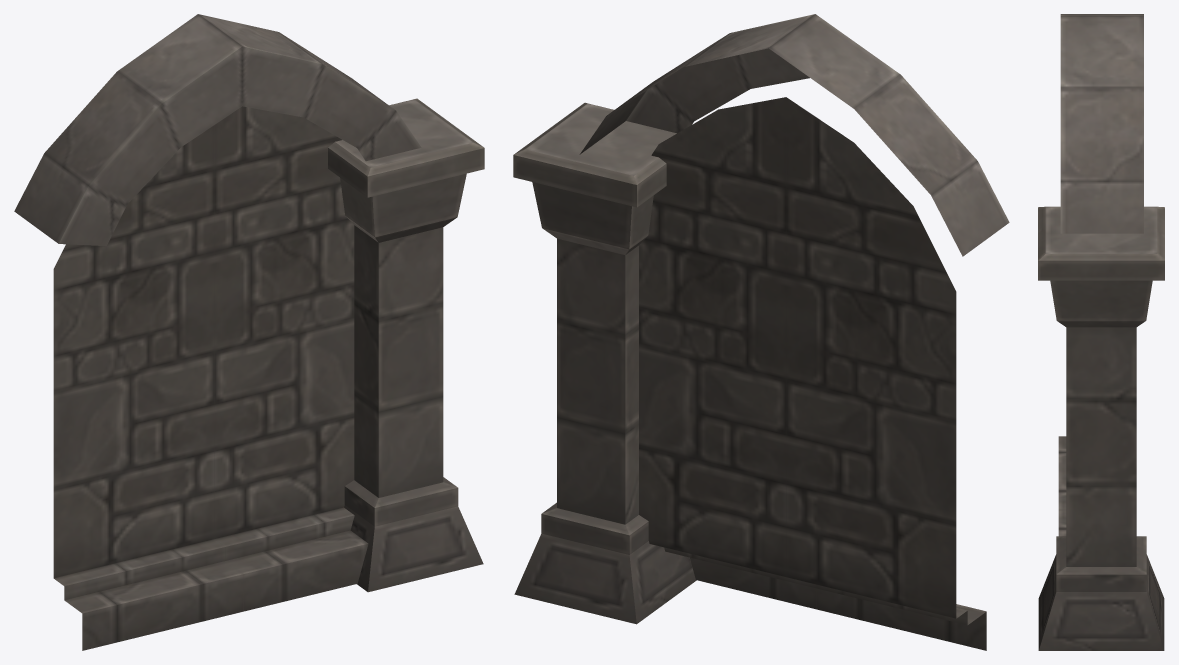
The model's file is dungeon_wall_1.FBX.
3 views of the same model, side by side, from view 1: azimuth 30°, elevation 25°; view 2: azimuth 150°, elevation 25°; view 3: azimuth 270°, elevation 25° (orthographic). The views are drawn at different scales.
Parts seen in each view (by area): view 1: Object007; view 2: Object007; view 3: Object007.
Boxes of the visible parts, x1,y1,x2,y2 form: Object007: [14, 14, 484, 650]; Object007: [513, 14, 1009, 650]; Object007: [1038, 14, 1164, 650].
Bounding box in the file's own units: 78.13 × 102 × 22.09.
